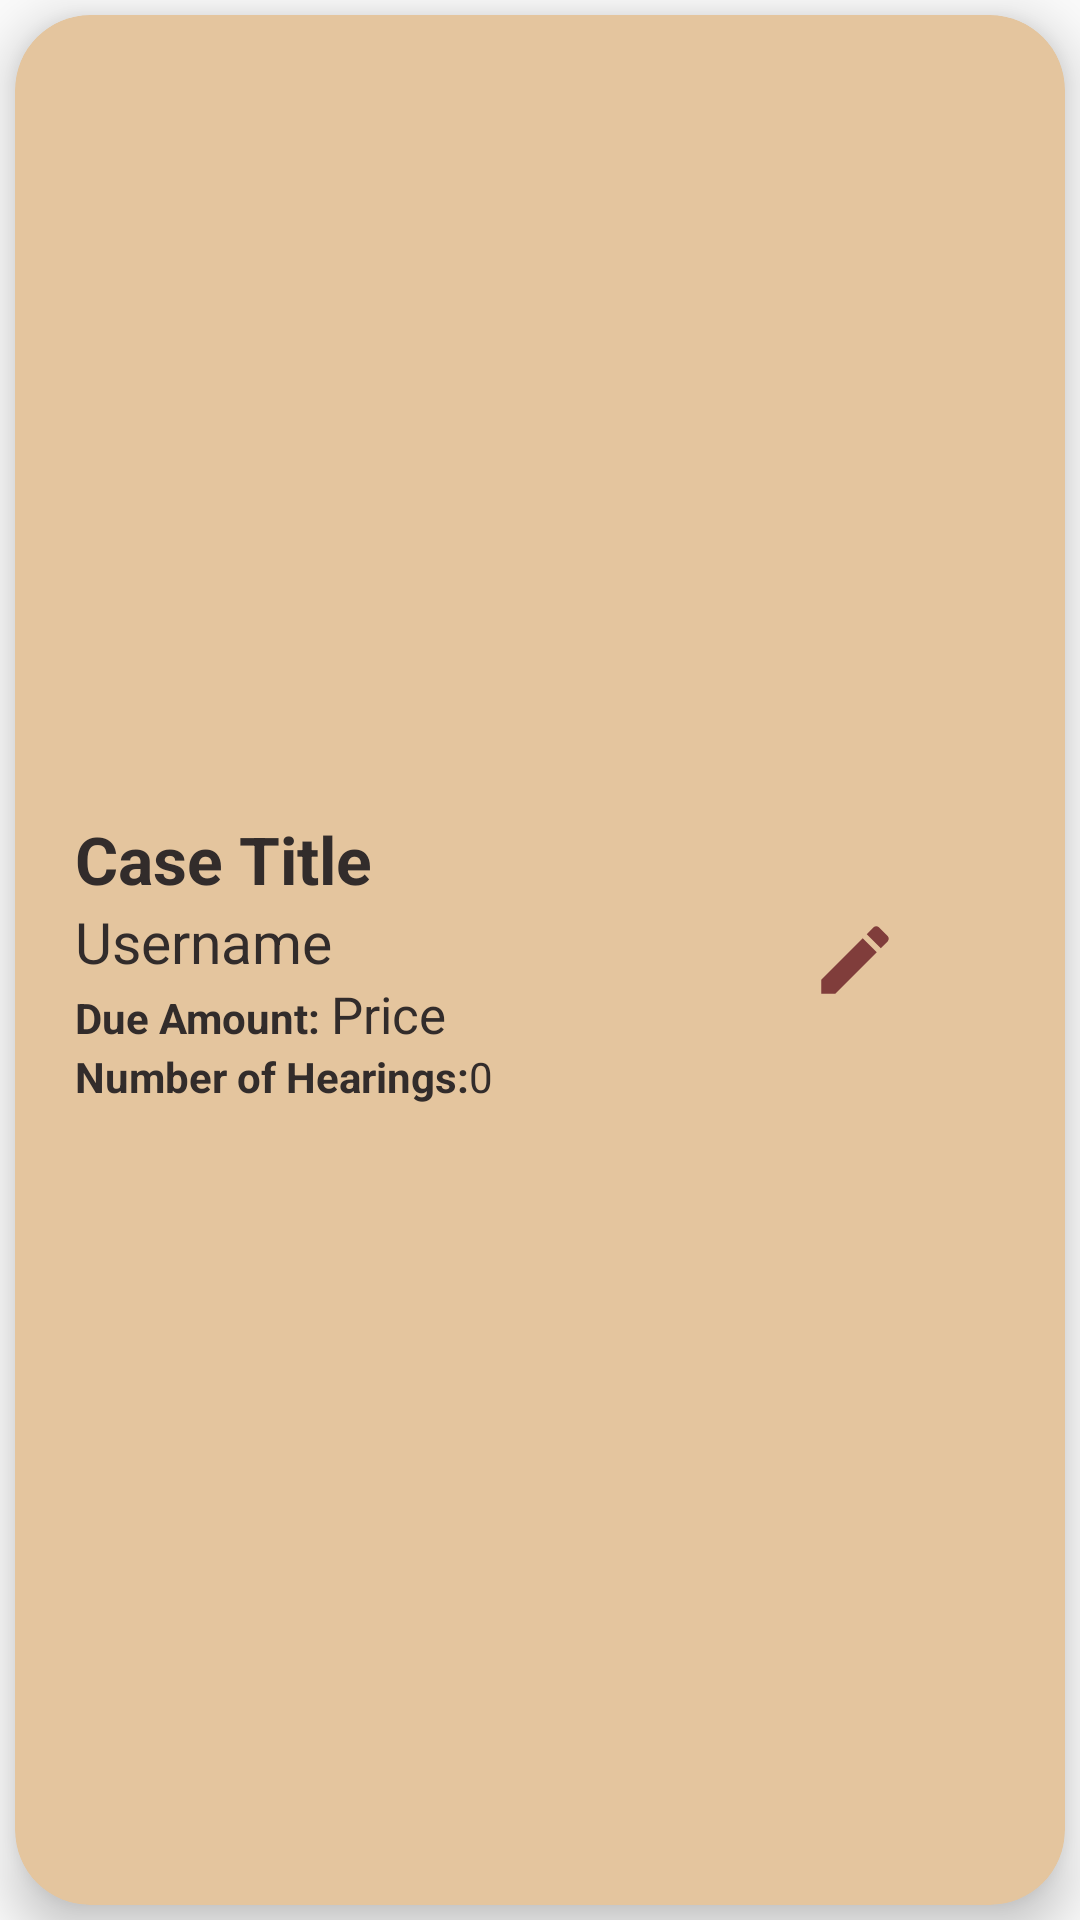

Locate icon controls on the screen. Image size 1080w x 1920h, boxes as {"left": x1, "top": y1, "right": x2, "bottom": y2}.
pencil: {"left": 821, "top": 926, "right": 889, "bottom": 994}
